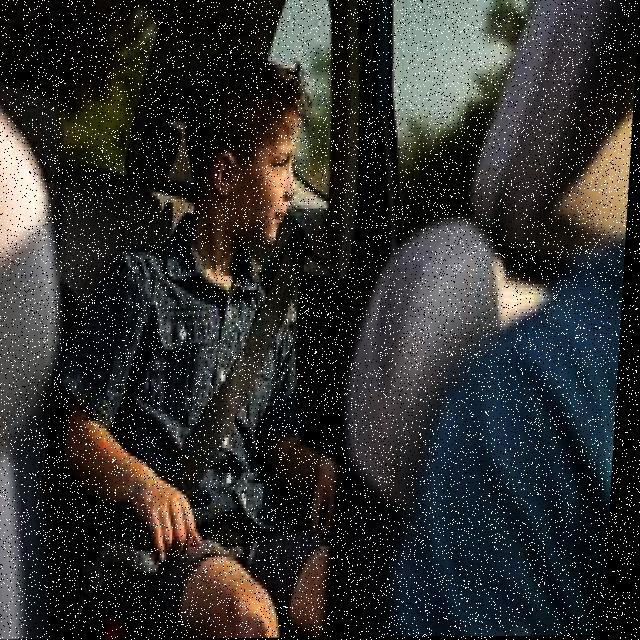seatbelt: (110, 204, 334, 475)
